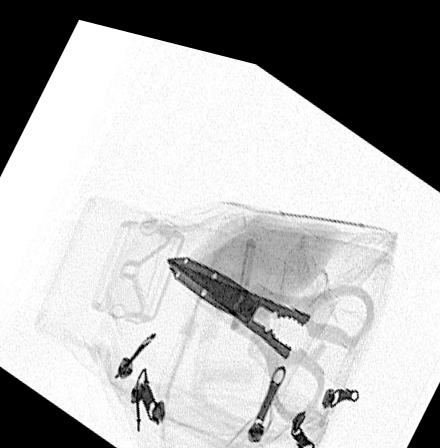Scissors: (165, 236, 378, 417)
